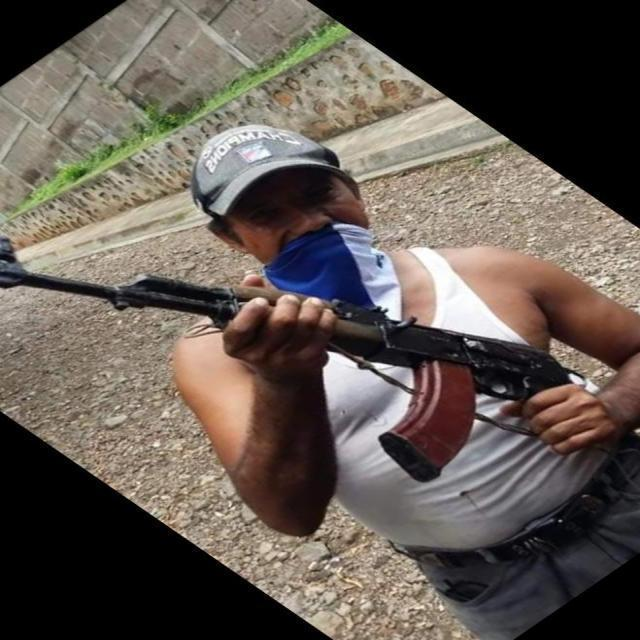Rifle: (0, 235, 588, 482)
